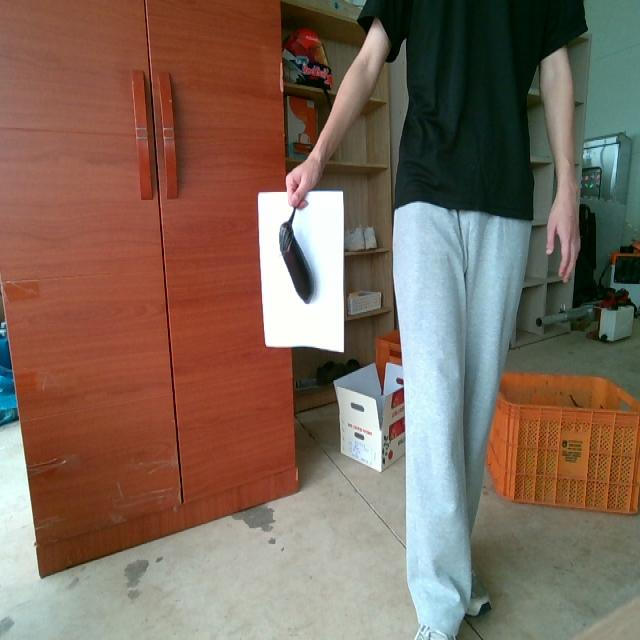Egg plant: (279, 208, 313, 303)
